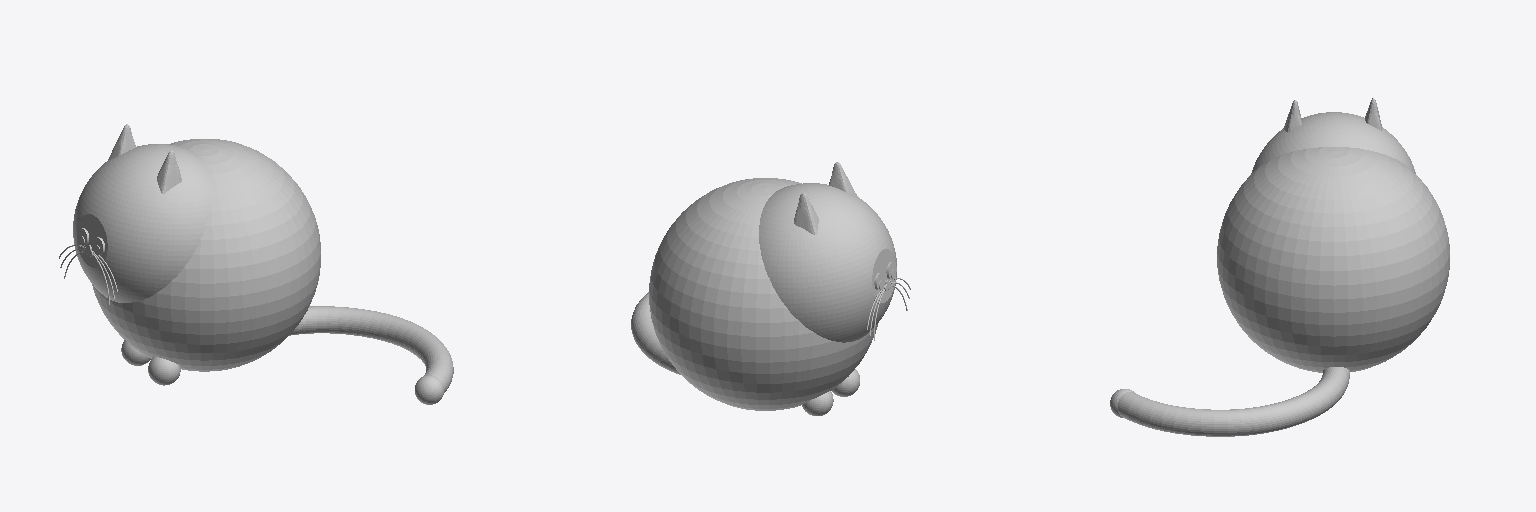
File: fat_cat_blender.obj
3 renders of one model, left to right at view 1: azimuth 30°, elevation 25°; view 2: azimuth 150°, elevation 25°; view 3: azimuth 270°, elevation 25°, orthographic.
Visible parts, largest first — view 1: fat_cat_blender; view 2: fat_cat_blender; view 3: fat_cat_blender.
Part boxes in pixels (bbox=[...]): fat_cat_blender: bbox=[59, 124, 453, 404]; fat_cat_blender: bbox=[631, 162, 910, 415]; fat_cat_blender: bbox=[1110, 98, 1449, 436].
Bounding box in the file's own units: 21.86 × 16.57 × 21.52.